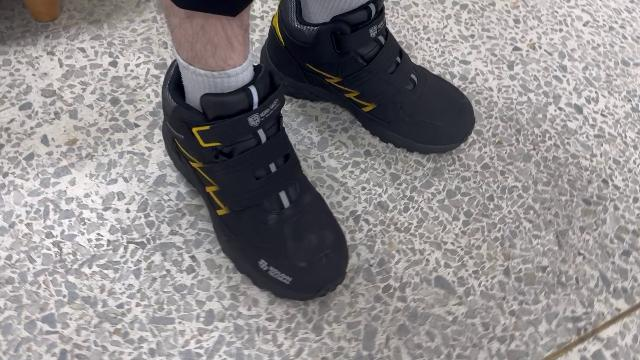shoe_worn: (146, 65, 353, 304), (262, 0, 478, 156)
